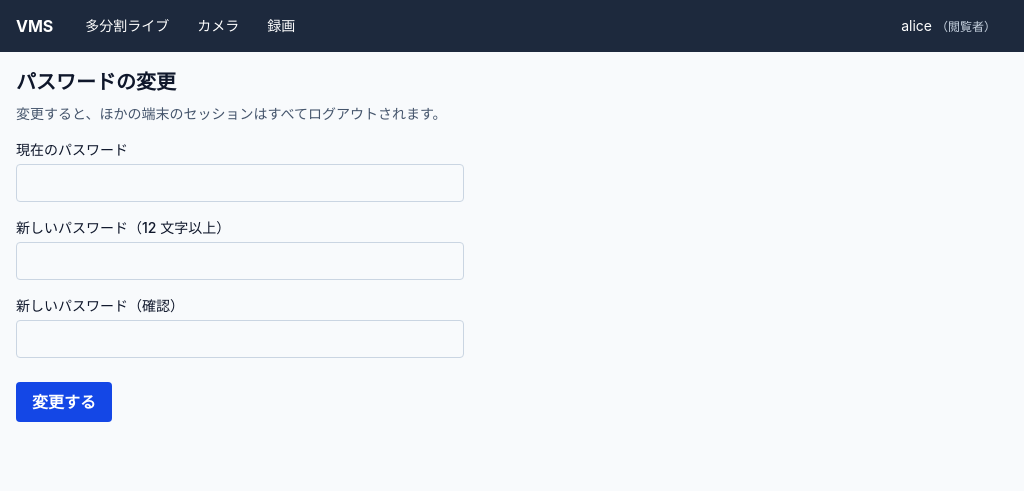
Test: password change › changes the password
Expected: the heading "パスワードの変更" is shown, [16, 70, 176, 94]
Type "old password" into the password field labelled "現在のパスワード".
click(240, 183); type("old password")  # box [16, 164, 464, 202]
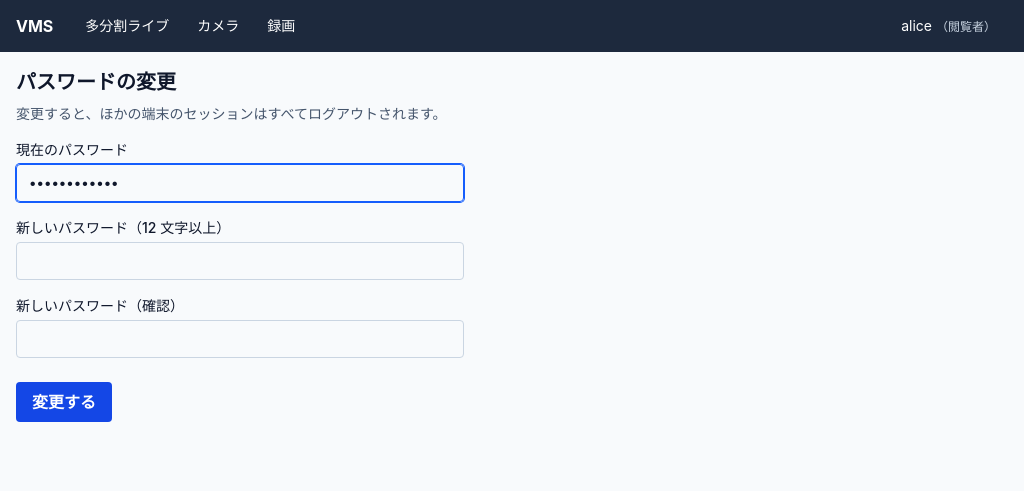
Type "new password 123" into the password field labelled "新しいパスワード（12 文字以上）".
click(240, 261); type("new password 123")  # box [16, 242, 464, 280]
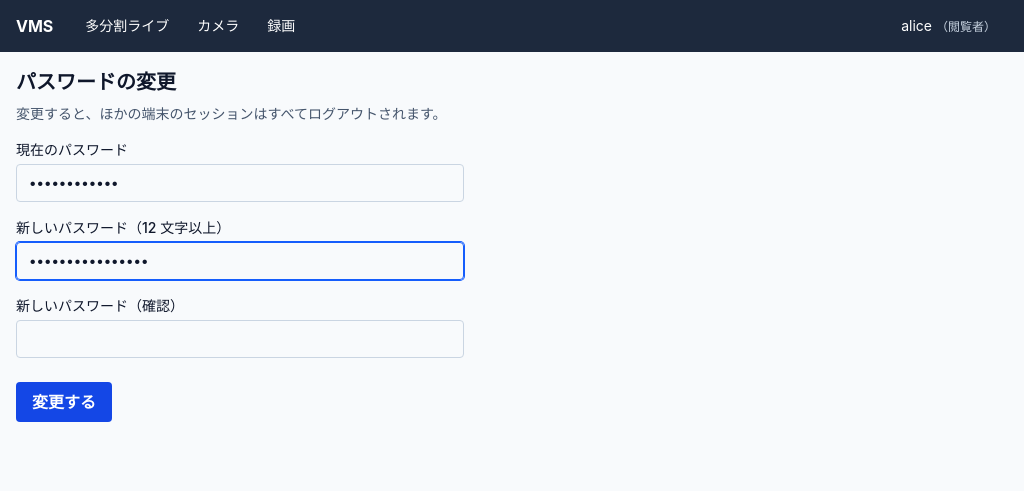
Type "new password 123" into the password field labelled "新しいパスワード（確認）".
click(240, 339); type("new password 123")  # box [16, 320, 464, 358]
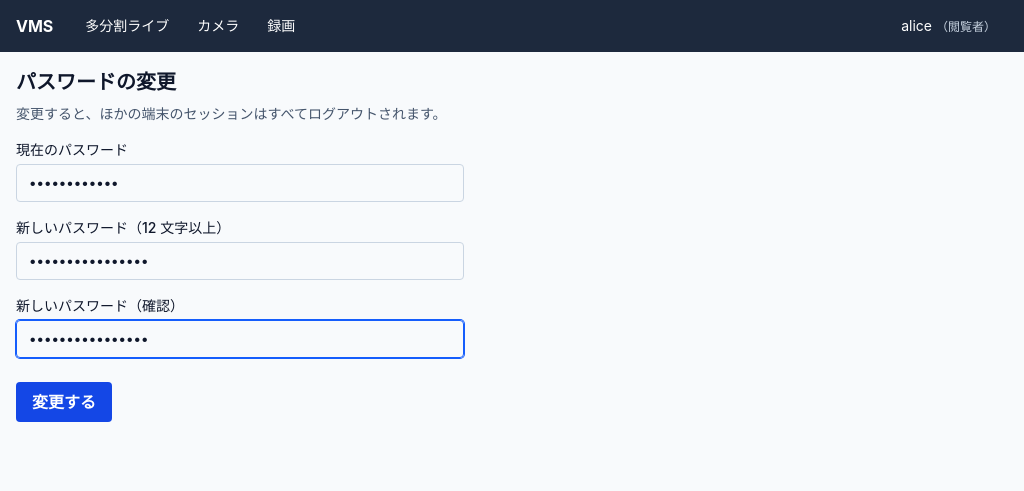
Click the button "変更する".
click(64, 402)  # box [16, 382, 112, 422]
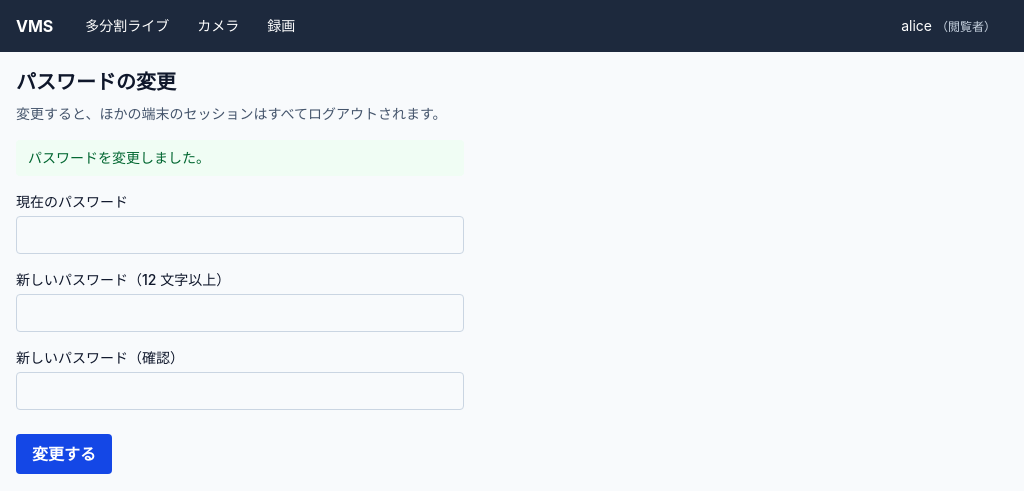
Result: the message shows "変更しました" at [28, 149, 210, 166]
Result: the password field labelled "現在のパスワード" is empty at [16, 216, 464, 254]
